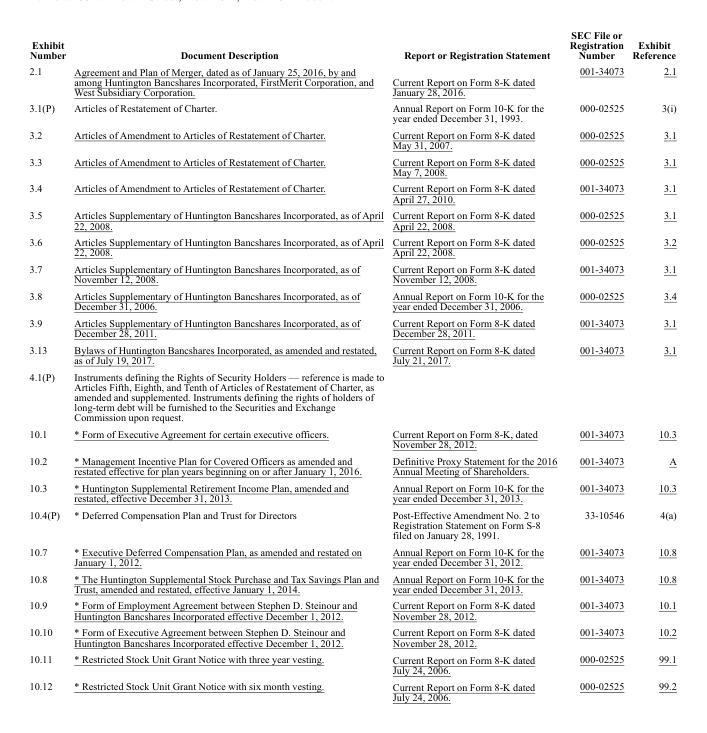table: (28, 28, 675, 702)
table column: (69, 28, 387, 702), (387, 28, 562, 702), (562, 28, 627, 702), (627, 28, 675, 702), (28, 28, 69, 702)
table column header: (28, 28, 675, 62)
table row: (28, 367, 675, 425), (28, 62, 675, 99), (28, 505, 675, 542), (28, 28, 675, 62), (28, 99, 675, 126), (28, 152, 675, 179), (28, 179, 675, 206), (28, 206, 675, 233), (28, 233, 675, 260), (28, 260, 675, 287), (28, 287, 675, 314), (28, 340, 675, 367), (28, 425, 675, 452), (28, 452, 675, 479), (28, 542, 675, 569), (28, 569, 675, 596), (28, 596, 675, 623), (28, 623, 675, 650), (28, 650, 675, 677), (28, 126, 675, 152), (28, 314, 675, 340), (28, 479, 675, 505), (28, 677, 675, 702)
